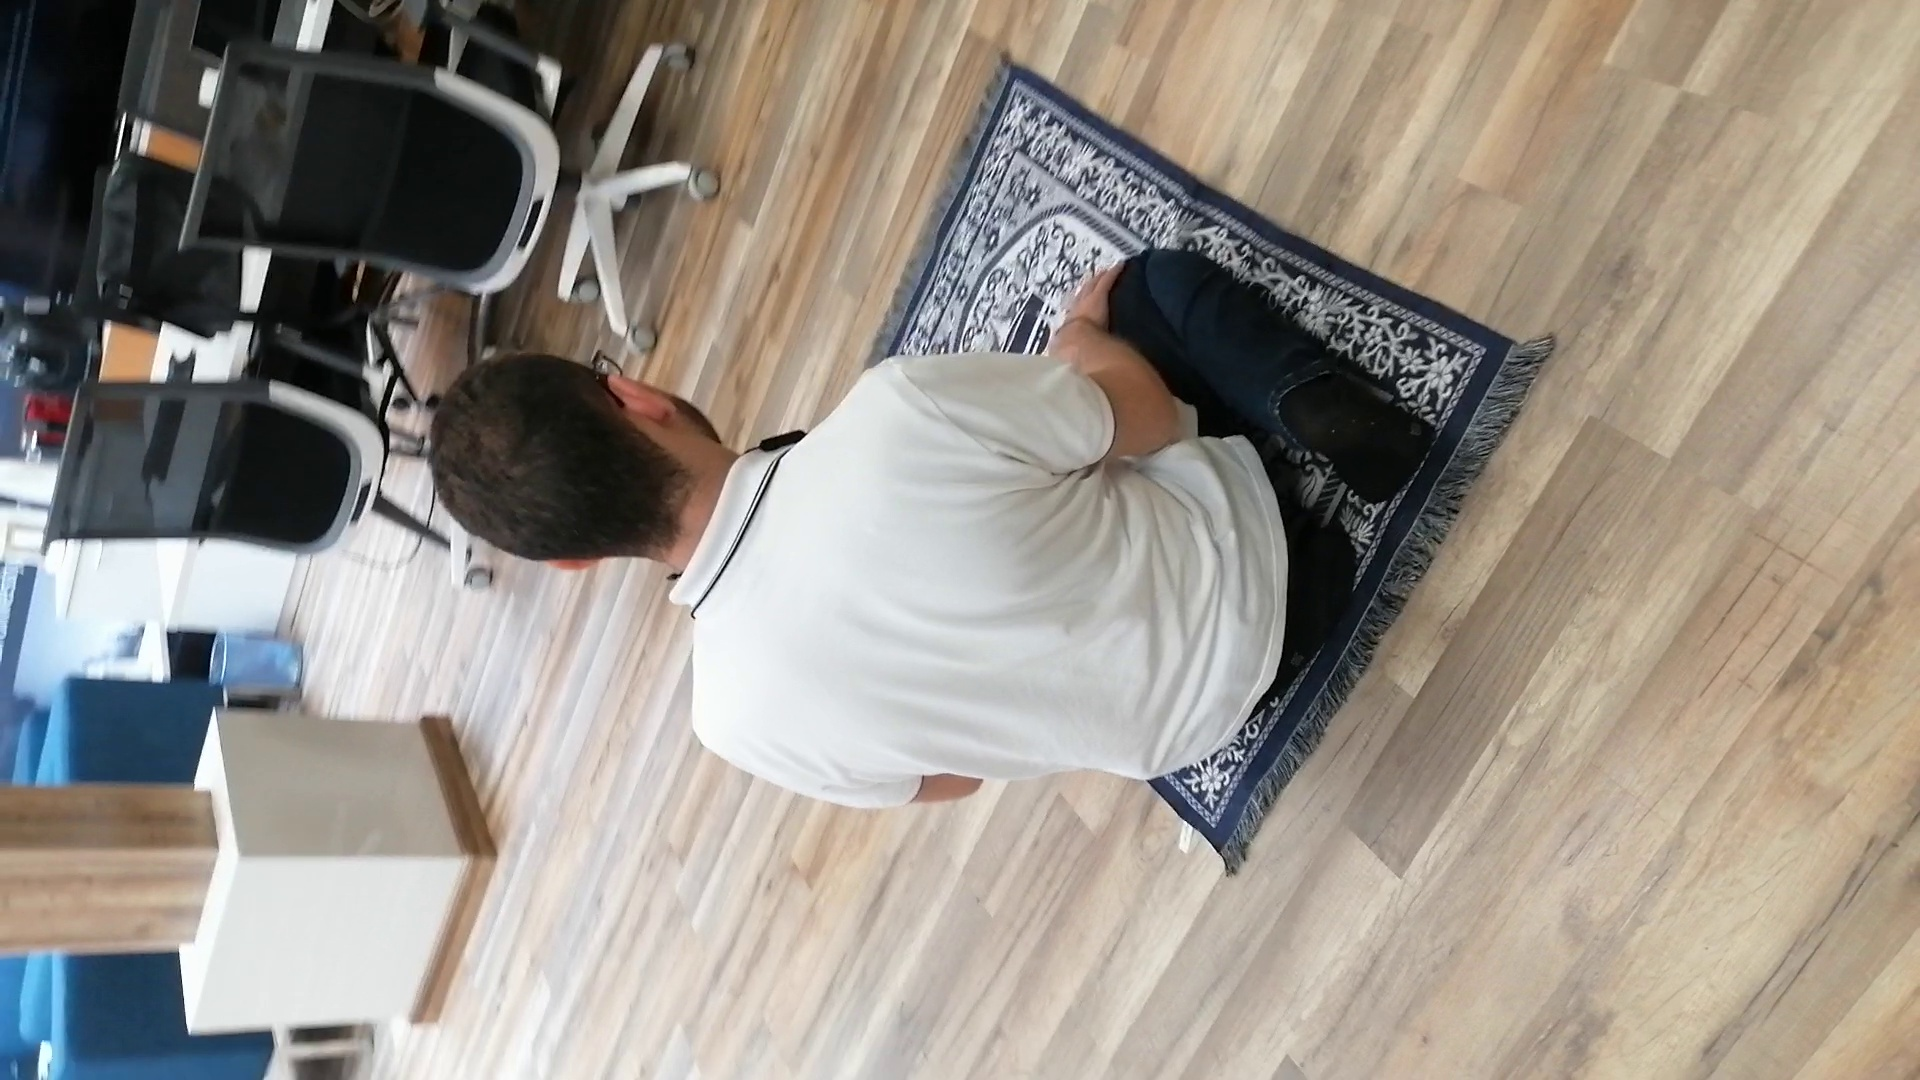sitting: (419, 237, 1432, 818)
